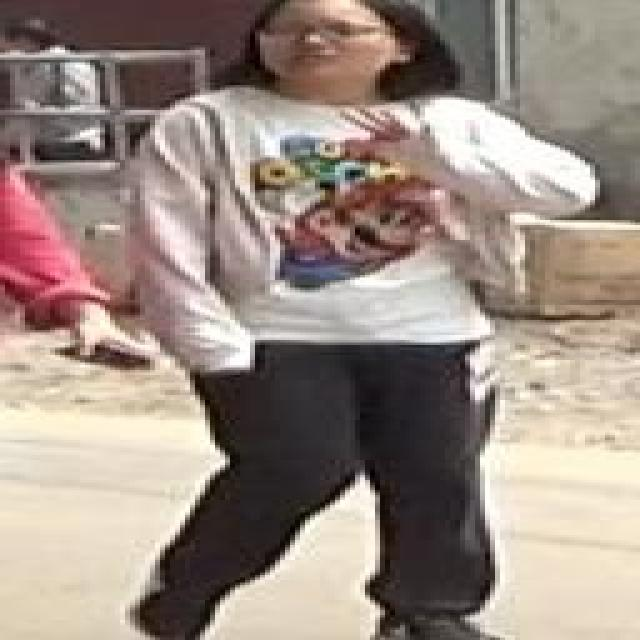adult: (122, 0, 594, 640), (0, 18, 124, 158)
